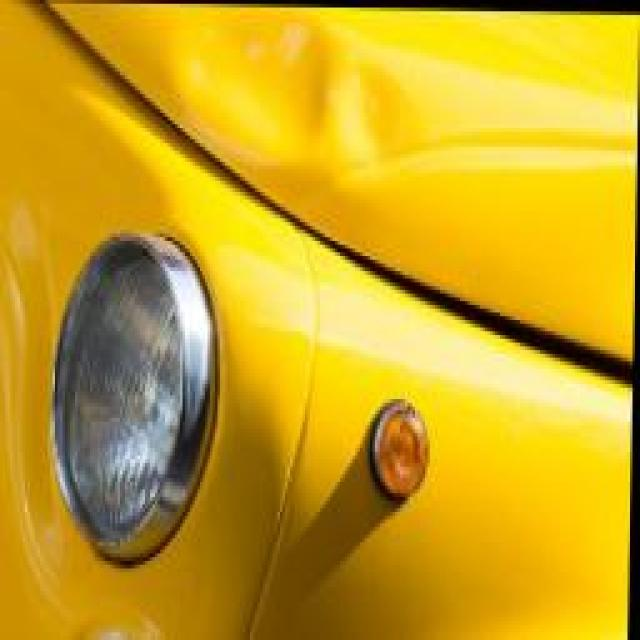Bonnet: (192, 8, 423, 200)
